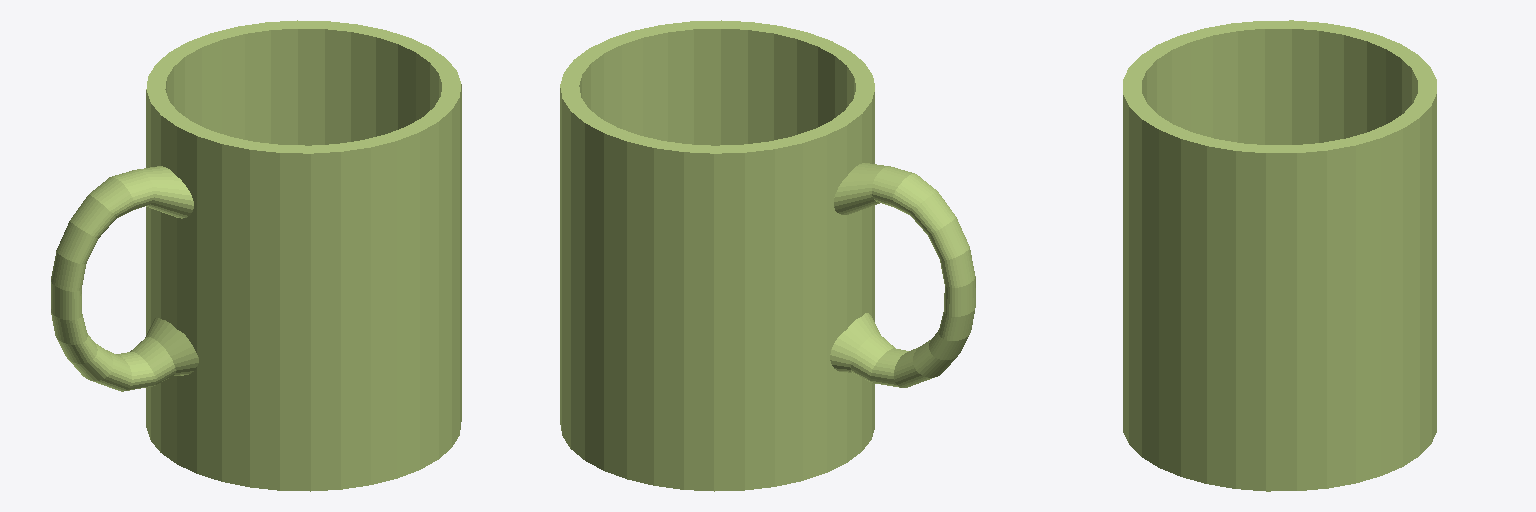
The robot description file, URDF, robot "mug":
<?xml version="1.0"?>

<robot name="mug">
  <link name="mug">
    <gravity>false</gravity>
    <inertial>
       <mass value="0.02"/>
       <inertia
        ixx="0.0007"
        ixy="0"
        ixz="0"
        iyy="0.0007"
        iyz="0"
        izz="0.007" />
    </inertial>
    <collision>
        <geometry><box size="0.0001 0.0001 0.0001" /></geometry>
          <surface>
            <contact>
              <collide_without_contact>true</collide_without_contact>
            </contact>
          </surface>
    </collision>
    <visual>
      <geometry>
        <mesh filename="package://milkshake_demo/models/mug/meshes/mug.dae"/>
      </geometry>
    </visual>
  </link>
</robot>

--- What the picture shows (computed from the rendered views, not written in the file) ---
The picture shows the robot from 3 angles, left to right: view 1: azimuth 30°, elevation 25°; view 2: azimuth 150°, elevation 25°; view 3: azimuth 270°, elevation 25°; orthographic projection.
Model mug with 1 links and 0 joints (none), rooted at mug, posed every joint at zero.
Visible links, largest first — view 1: mug; view 2: mug; view 3: mug.
Boxes of the visible links, x1,y1,x2,y2 form: mug: (51,20,461,491); mug: (560,20,975,491); mug: (1123,20,1436,491).
Size in the robot's own frame: 0.1038 by 0.0728 by 0.0864 metres.
1 mesh visuals loaded from 1 distinct referenced files (1 Collada DAE).